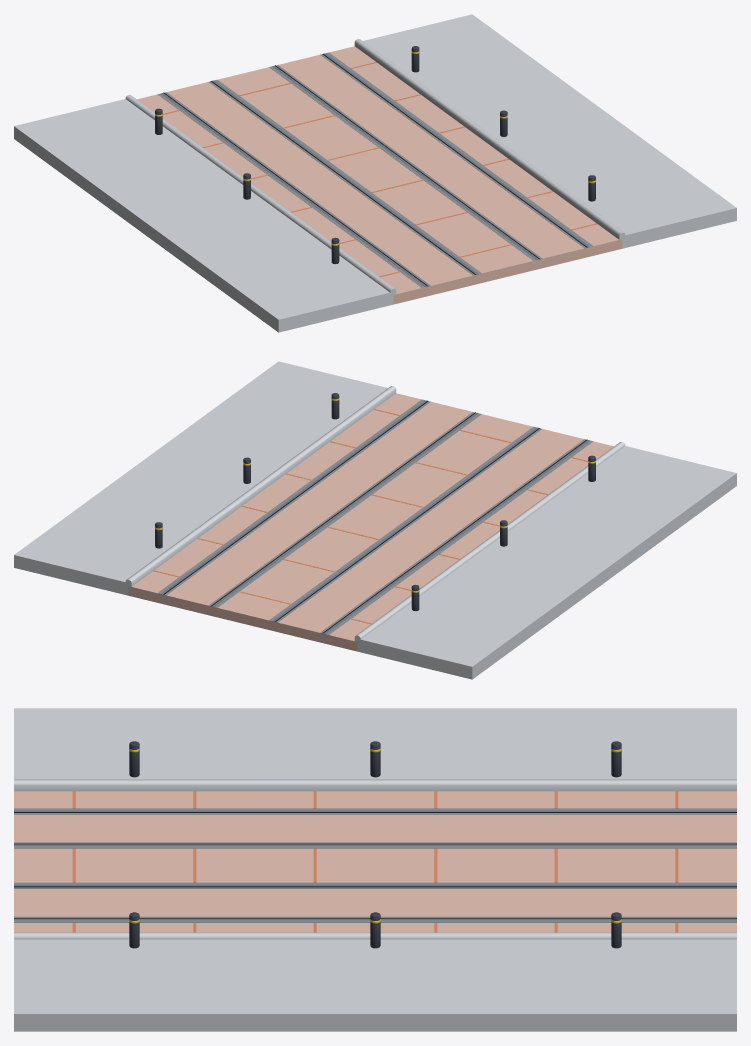
Rendered from bonde_piso.glb.
3 views of the same model, one above another, from view 1: azimuth 30°, elevation 25°; view 2: azimuth 150°, elevation 25°; view 3: azimuth 270°, elevation 25° (orthographic). The views are drawn at different scales.
Parts seen in each view (by area): view 1: bonde_piso; view 2: bonde_piso; view 3: bonde_piso.
Boxes of the visible parts, x1,y1,x2,y2 form: bonde_piso: (14,14,736,332); bonde_piso: (14,361,736,679); bonde_piso: (14,708,736,1031).
Size of the model in its own units: 15 by 1.15 by 15.
Materials: 1 (1 with a texture image).
